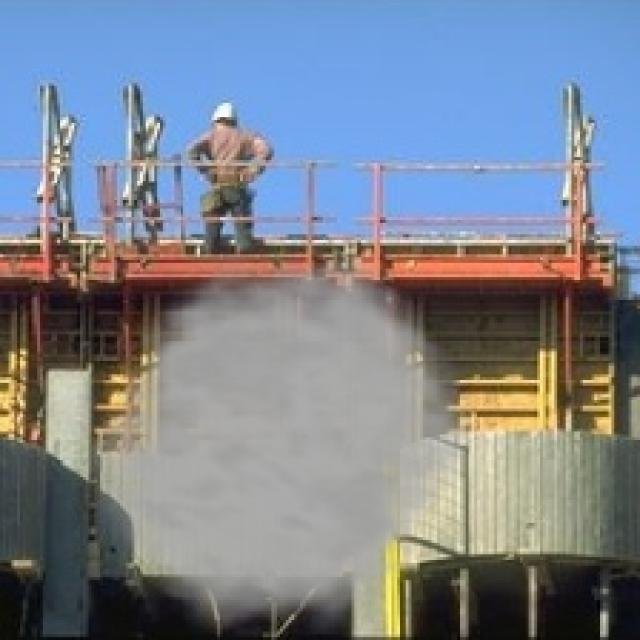Smoke: (74, 240, 483, 634)
